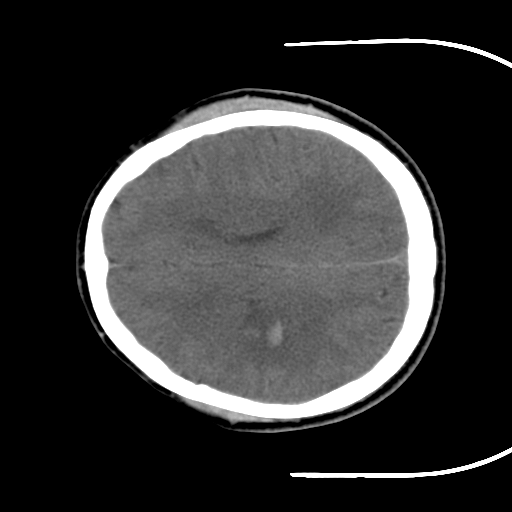a: (227, 292, 310, 366)
